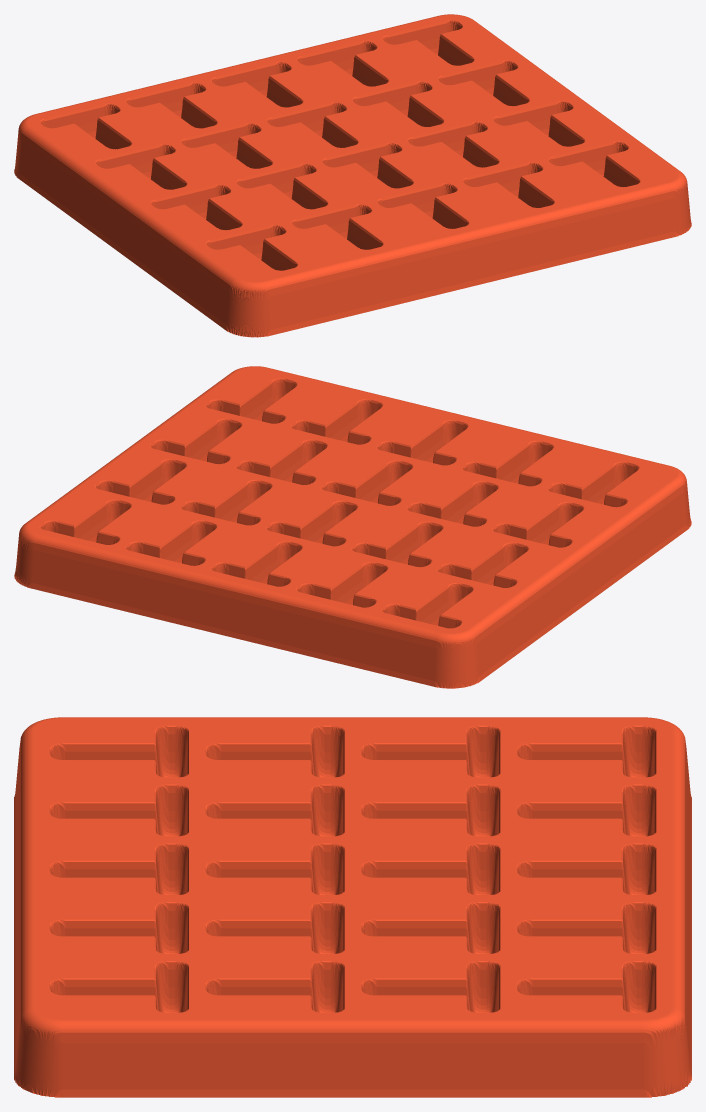
Rendered from mold.glb.
The picture shows the model from 3 angles, top to bottom: view 1: azimuth 30°, elevation 25°; view 2: azimuth 150°, elevation 25°; view 3: azimuth 270°, elevation 25°; orthographic projection. The views are drawn at different scales.
Visible parts, largest first — view 1: geometry_0; view 2: geometry_0; view 3: geometry_0.
Boxes of the visible parts, x1=… form: geometry_0: x1=14, y1=14, x2=691, y2=337; geometry_0: x1=14, y1=366, x2=691, y2=688; geometry_0: x1=14, y1=717, x2=691, y2=1097.
Size of the model in its own units: 0.1415 by 0.0145 by 0.1278.
